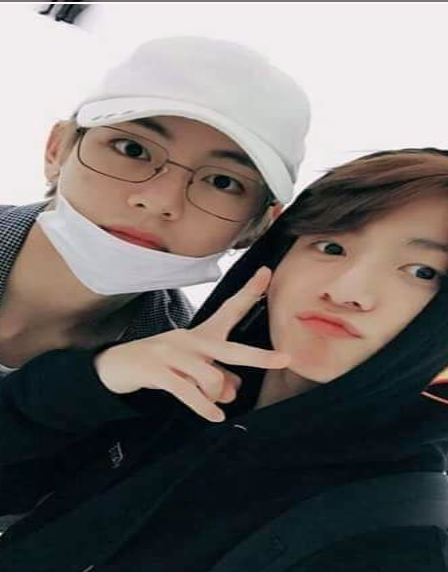mask_weared_incorrect: (46, 33, 305, 299)
